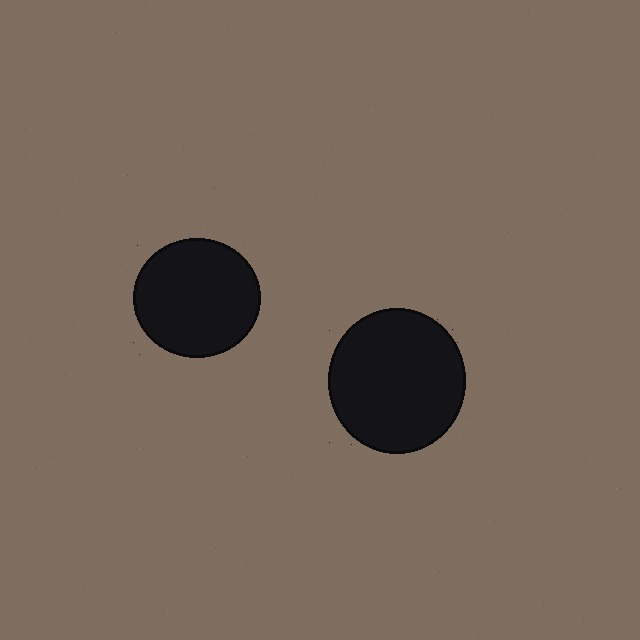pothole: (328, 308, 465, 453), (133, 238, 260, 357)
